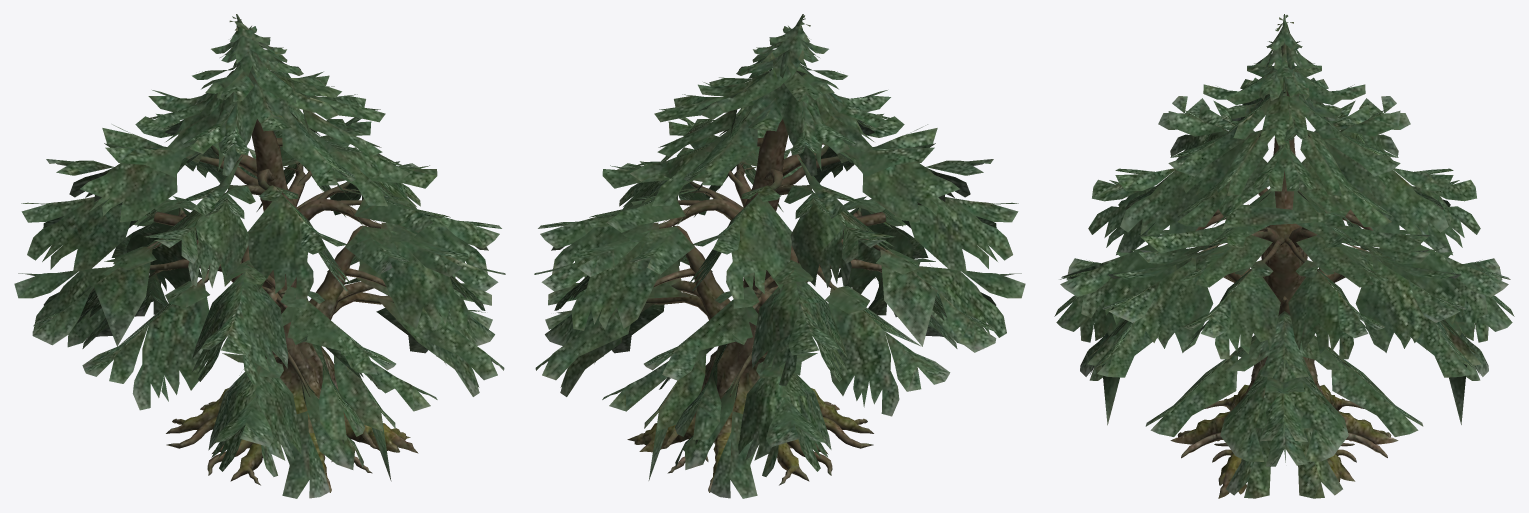
File: tree_pine_wide.glb
3 renders of one model, left to right at view 1: azimuth 30°, elevation 25°; view 2: azimuth 150°, elevation 25°; view 3: azimuth 270°, elevation 25°, orthographic. The views are drawn at different scales.
Visible parts, largest first — view 1: tripo_node_90e53fde-1c32-408f-863a-ca773dd3e7d4; view 2: tripo_node_90e53fde-1c32-408f-863a-ca773dd3e7d4; view 3: tripo_node_90e53fde-1c32-408f-863a-ca773dd3e7d4.
Part boxes in pixels (left/top/right/bottom): tripo_node_90e53fde-1c32-408f-863a-ca773dd3e7d4: left=14, top=14, right=505, bottom=498; tripo_node_90e53fde-1c32-408f-863a-ca773dd3e7d4: left=534, top=14, right=1025, bottom=498; tripo_node_90e53fde-1c32-408f-863a-ca773dd3e7d4: left=1054, top=14, right=1514, bottom=498.
Size of the model in its own units: 0.9937 by 0.9995 by 0.9966.
1 material, 1 textured.
